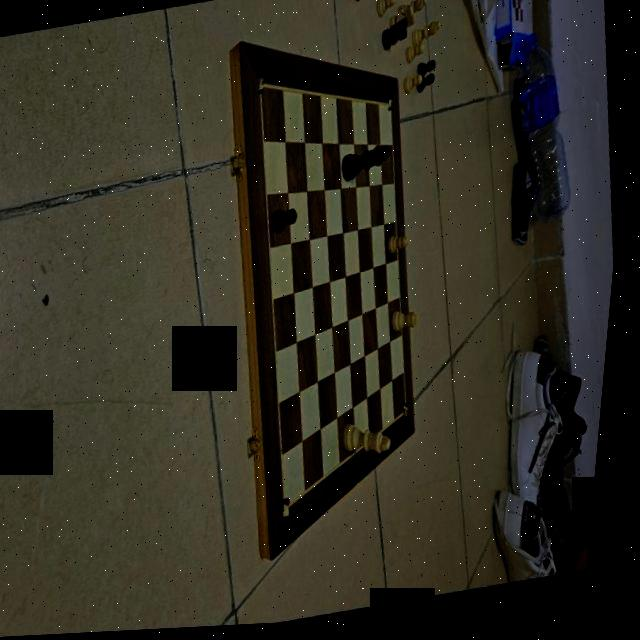chess-table-corners: (290, 502, 300, 521), (258, 81, 268, 98), (409, 408, 417, 422), (389, 104, 396, 115)
